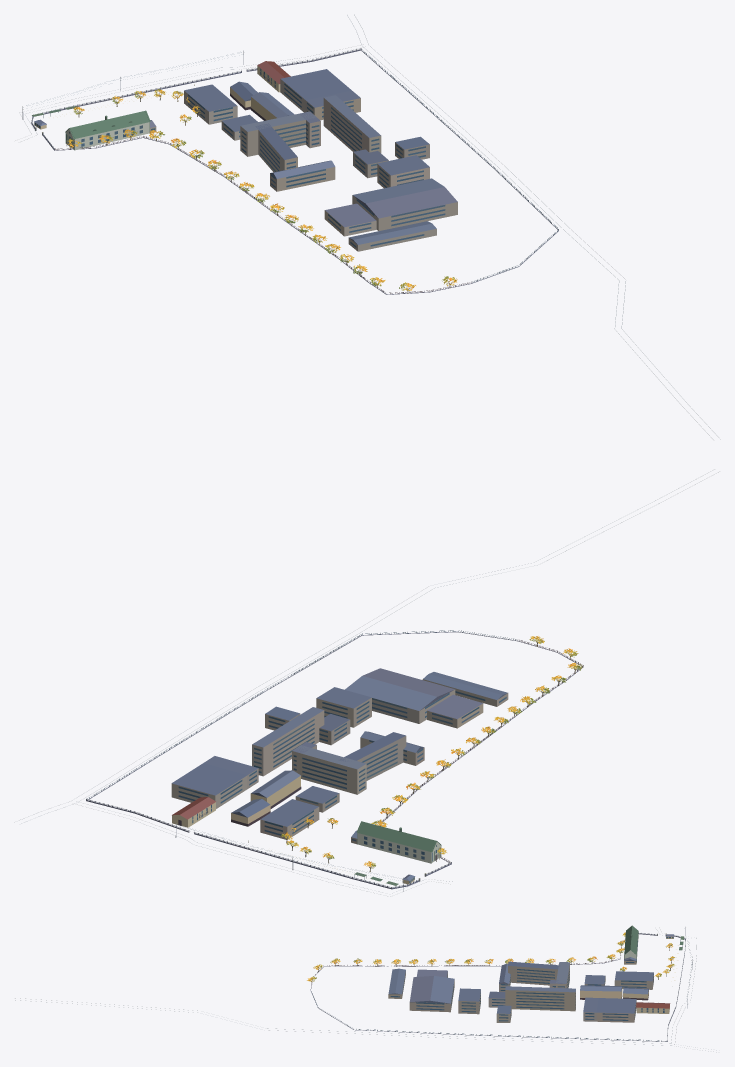
The model's file is ART_ShigaCampus.lod.glb.
3 renders of one model, top to bottom at view 1: azimuth 30°, elevation 25°; view 2: azimuth 150°, elevation 25°; view 3: azimuth 270°, elevation 25°, orthographic. The views are drawn at different scales.
Visible parts, largest first — view 1: ART_ShigaCampus; view 2: ART_ShigaCampus; view 3: ART_ShigaCampus.
Part boxes in pixels (x1=…): ART_ShigaCampus: x1=15, y1=14, x2=720, y2=439; ART_ShigaCampus: x1=14, y1=469, x2=719, y2=896; ART_ShigaCampus: x1=15, y1=925, x2=716, y2=1052.
Size of the model in its own units: 299 by 21.14 by 710.
